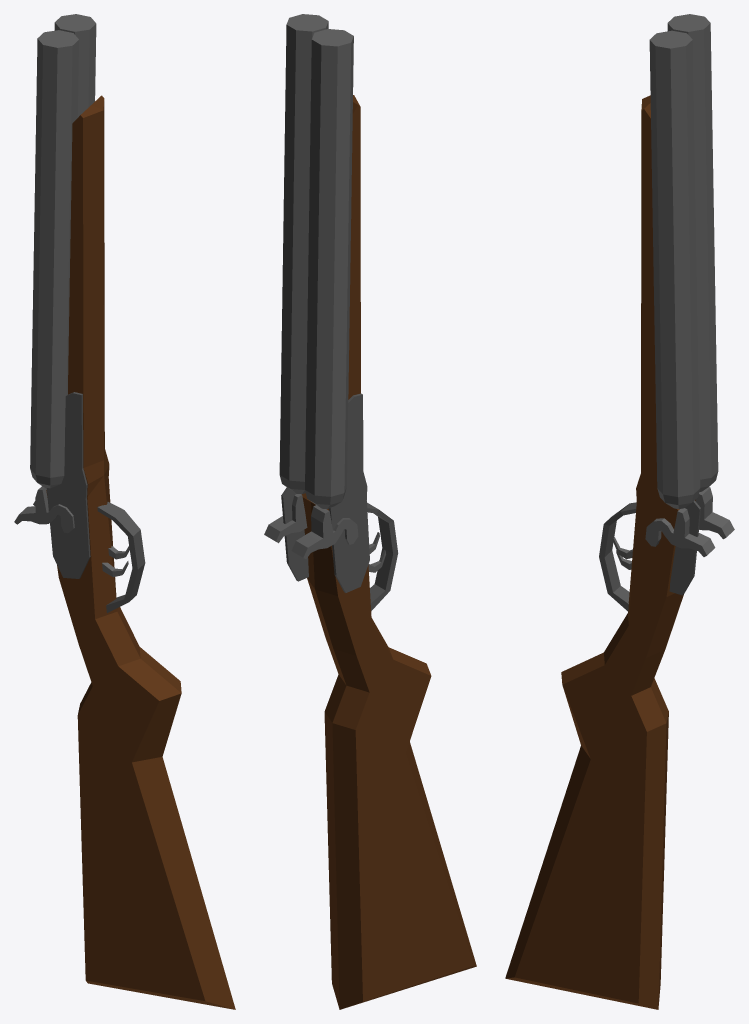
The model's file is shotgun.glb.
The picture shows the model from 3 angles, left to right: view 1: azimuth 90°, elevation 25°; view 2: azimuth 150°, elevation 25°; view 3: azimuth 270°, elevation 25°; orthographic projection. The views are drawn at different scales.
Visible parts, largest first — view 1: Cube, Cylinder, Cube.003, Cube.001, Cube.002; view 2: Cube, Cylinder, Cube.003, Cube.002, Cube.001, Cube.005; view 3: Cube, Cylinder, Cube.002, Cube.001, Cube.005.
Part boxes in pixels (left/top/right/bottom): Cube: left=46, top=95, right=235, bottom=1009; Cylinder: left=30, top=14, right=96, bottom=488; Cube.003: left=46, top=392, right=90, bottom=578; Cube.001: left=97, top=502, right=145, bottom=612; Cube.002: left=14, top=486, right=74, bottom=533; Cube: left=302, top=95, right=476, bottom=1009; Cylinder: left=279, top=14, right=353, bottom=508; Cube.003: left=329, top=393, right=369, bottom=592; Cube.002: left=264, top=494, right=358, bottom=559; Cube.001: left=367, top=502, right=398, bottom=610; Cube.005: left=281, top=487, right=308, bottom=581; Cube: left=505, top=95, right=695, bottom=1009; Cylinder: left=649, top=14, right=718, bottom=509; Cube.002: left=645, top=487, right=734, bottom=556; Cube.001: left=599, top=502, right=636, bottom=611; Cube.005: left=669, top=500, right=700, bottom=595.
Bounding box in the file's own units: 0.6659 × 5.03 × 1.07.
